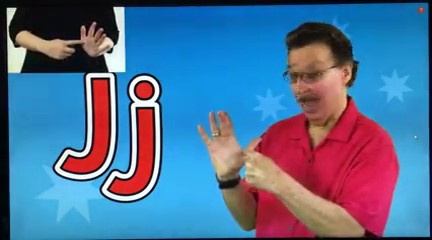J: (192, 108, 272, 191), (48, 22, 107, 66)
